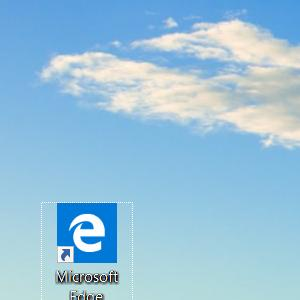edge: (57, 203, 117, 263)
